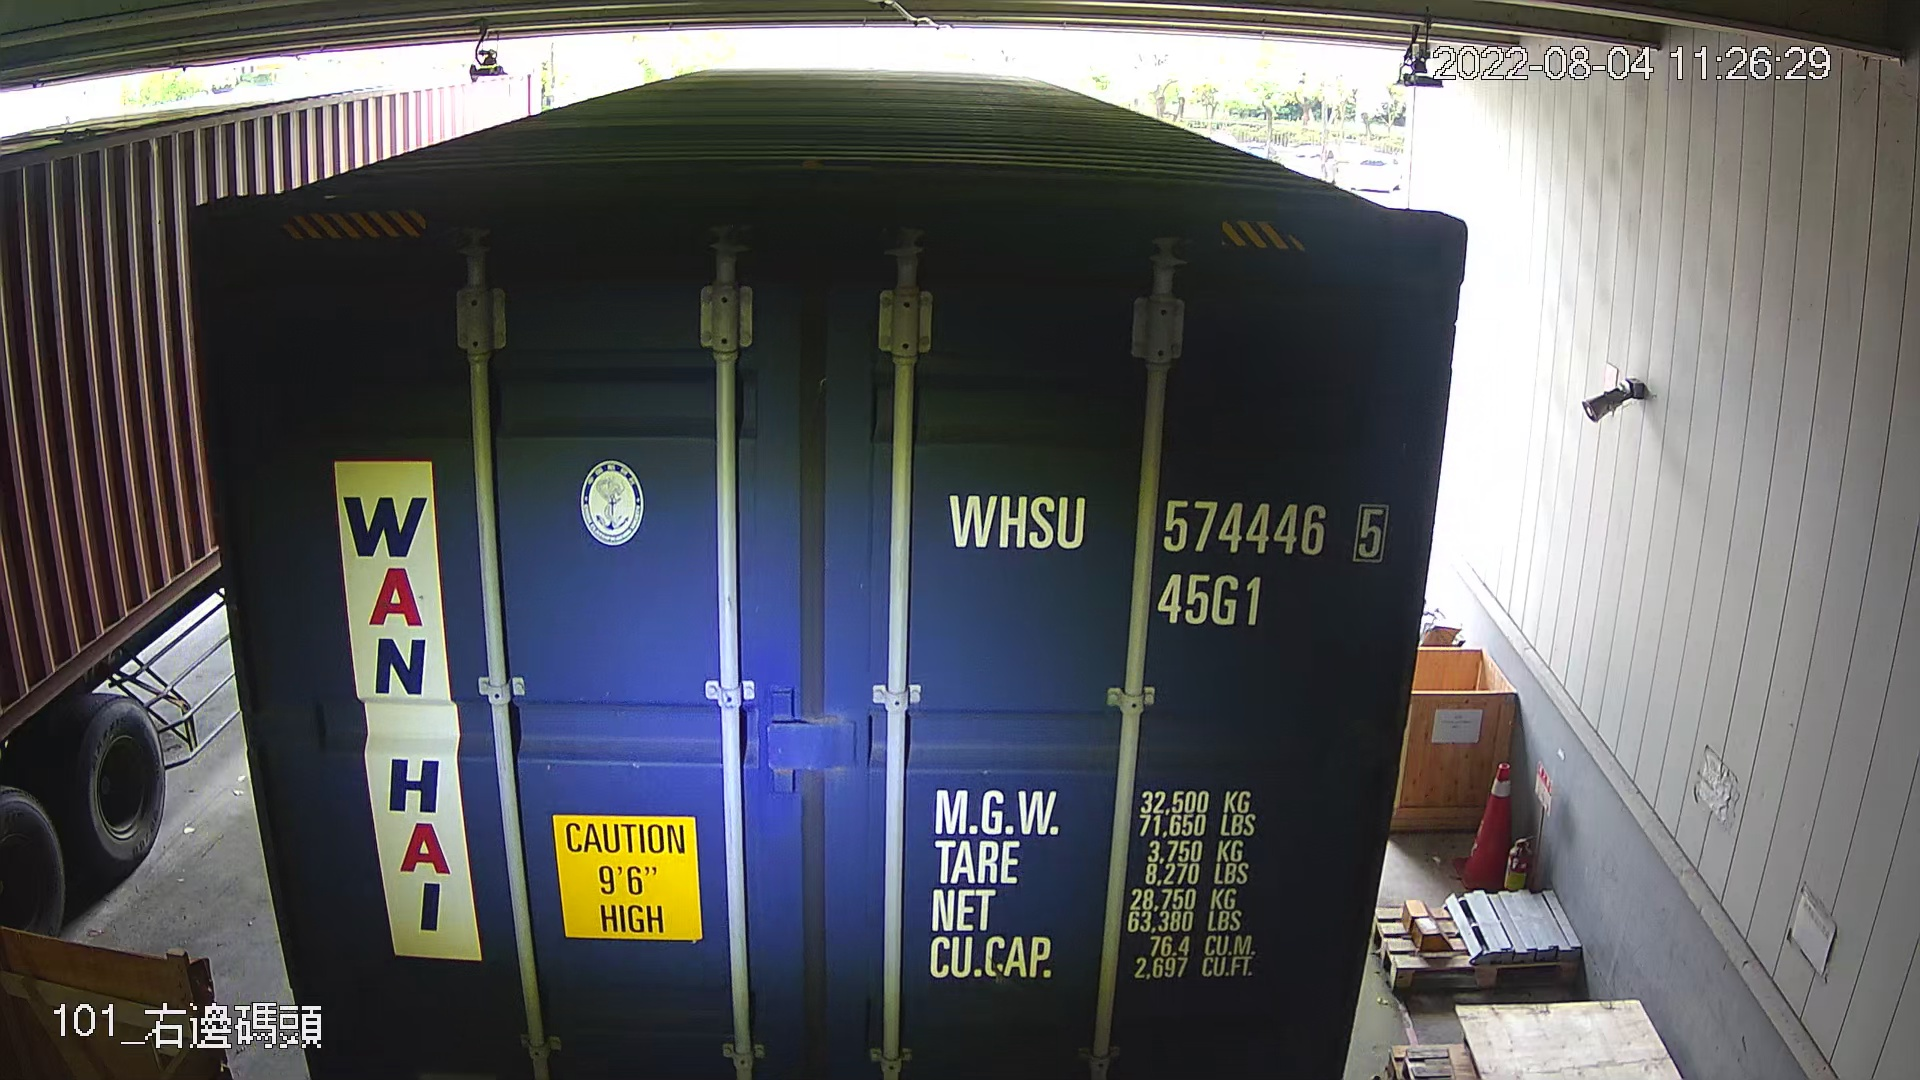container: (938, 477, 1400, 641)
